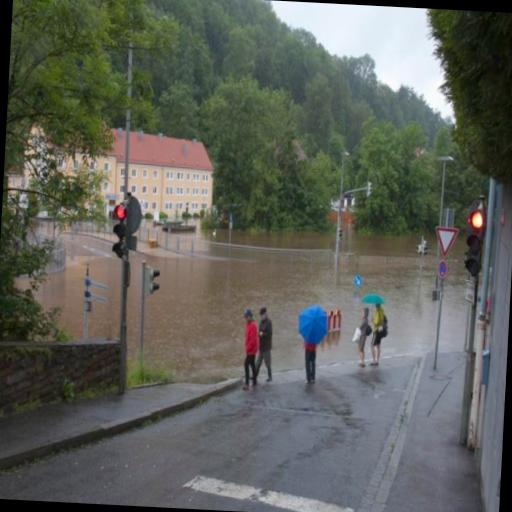flood: (128, 221, 438, 384), (36, 234, 121, 340), (441, 237, 467, 351)
house: (100, 128, 216, 223)
